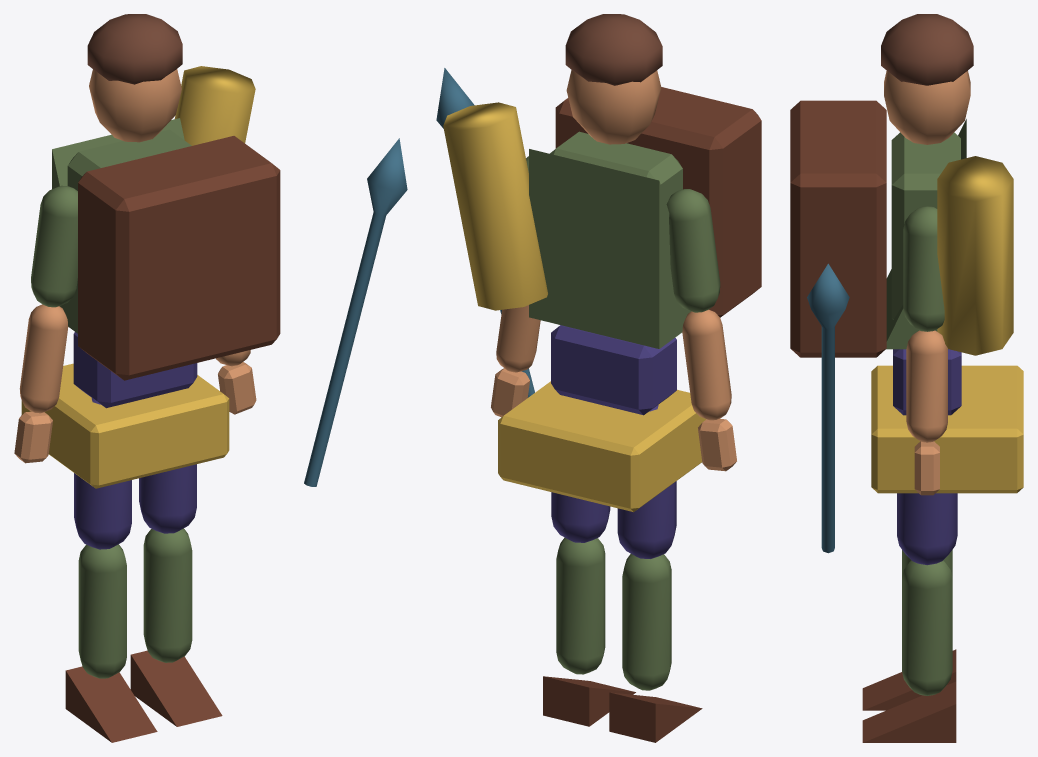
Rendered from adventurer.rustic.glb.
The picture shows the model from 3 angles, left to right: view 1: azimuth 30°, elevation 25°; view 2: azimuth 150°, elevation 25°; view 3: azimuth 270°, elevation 25°; orthographic projection.
Visible parts, largest first — view 1: accessory.body, accessory.waist, shin.right, shin.left, accessory.main-hand, hair, accessory.back, upper-arm.left, head, foot.left, foot.right, forearm.left (+7 smaller); view 2: tunic, accessory.waist, accessory.body, accessory.back, pelvis, shin.right, shin.left, hair, upper-arm.left, head, forearm.left, torso (+8 smaller); view 3: accessory.body, accessory.waist, accessory.back, shin.right, hair, torso, accessory.main-hand, head, upper-arm.right, forearm.right, foot.right, thigh.right (+4 smaller).
Boxes of the visible parts, left/top/right/bottom form: accessory.body: left=78, top=136, right=280, bottom=380; accessory.waist: left=21, top=363, right=229, bottom=488; shin.right: left=143, top=528, right=192, bottom=662; shin.left: left=78, top=544, right=126, bottom=678; accessory.main-hand: left=304, top=138, right=407, bottom=486; hair: left=87, top=14, right=182, bottom=84; accessory.back: left=174, top=66, right=255, bottom=145; upper-arm.left: left=31, top=185, right=77, bottom=307; head: left=89, top=69, right=181, bottom=142; foot.left: left=65, top=666, right=157, bottom=742; foot.right: left=130, top=650, right=222, bottom=726; forearm.left: left=19, top=304, right=68, bottom=413; tunic: left=529, top=149, right=690, bottom=348; accessory.waist: left=498, top=381, right=706, bottom=512; accessory.body: left=555, top=87, right=761, bottom=317; accessory.back: left=443, top=102, right=547, bottom=310; pelvis: left=551, top=325, right=676, bottom=415; shin.right: left=556, top=537, right=605, bottom=674; shin.left: left=622, top=554, right=671, bottom=690; hair: left=565, top=14, right=662, bottom=85; upper-arm.left: left=666, top=189, right=720, bottom=312; head: left=566, top=70, right=661, bottom=144; forearm.left: left=682, top=309, right=731, bottom=420; torso: left=550, top=131, right=682, bottom=203; accessory.body: left=790, top=100, right=886, bottom=357; accessory.waist: left=871, top=365, right=1023, bottom=493; accessory.back: left=937, top=156, right=1013, bottom=355; shin.right: left=902, top=560, right=952, bottom=695; hair: left=881, top=14, right=973, bottom=85; torso: left=891, top=132, right=960, bottom=319; accessory.main-hand: left=807, top=263, right=849, bottom=553; head: left=884, top=71, right=970, bottom=144; upper-arm.right: left=903, top=206, right=944, bottom=331; forearm.right: left=906, top=330, right=947, bottom=442; foot.right: left=862, top=681, right=956, bottom=742; thigh.right: left=897, top=493, right=957, bottom=565.
Size of the model in its own units: 1.57 by 3.03 by 0.92.
